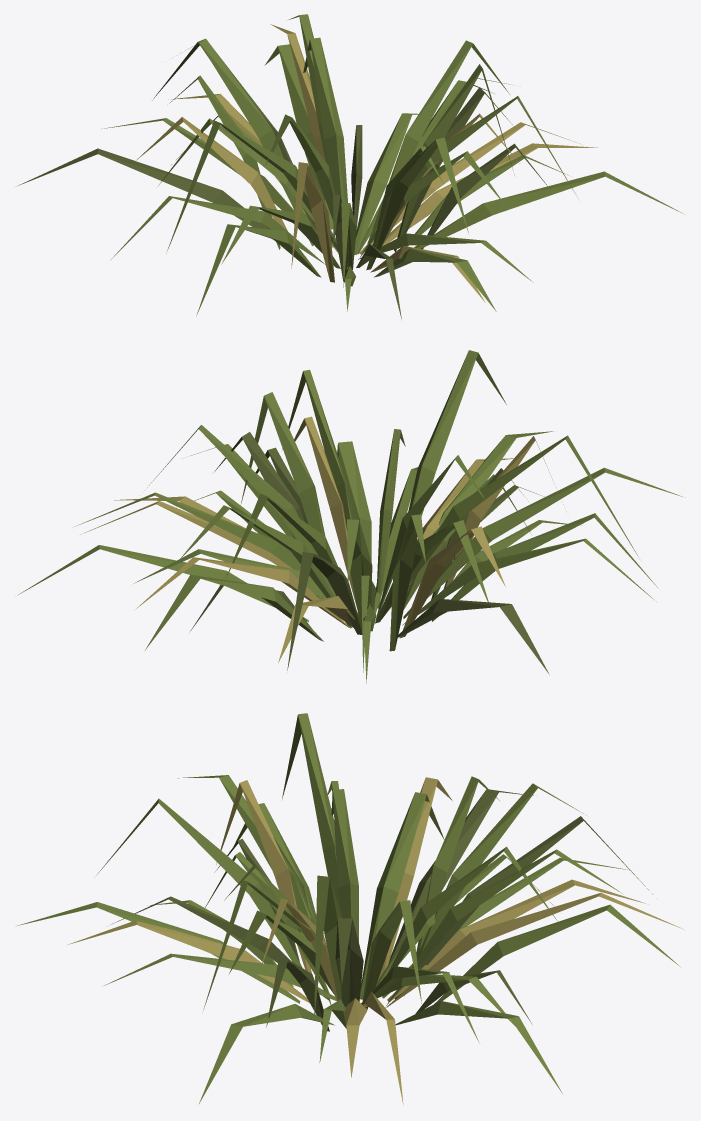
Rendered from w10a-verge-stubble.glb.
3 views of the same model, one above another, from view 1: azimuth 30°, elevation 25°; view 2: azimuth 150°, elevation 25°; view 3: azimuth 270°, elevation 25° (orthographic). The views are drawn at different scales.
Visible parts, largest first — view 1: Pressed meadow bunch; view 2: Pressed meadow bunch; view 3: Pressed meadow bunch.
Part boxes in pixels (x1=…): Pressed meadow bunch: x1=18, y1=14, x2=684, y2=319; Pressed meadow bunch: x1=17, y1=350, x2=682, y2=683; Pressed meadow bunch: x1=17, y1=713, x2=683, y2=1104.
Bounding box in the file's own units: 0.884 × 0.3134 × 0.9257.
